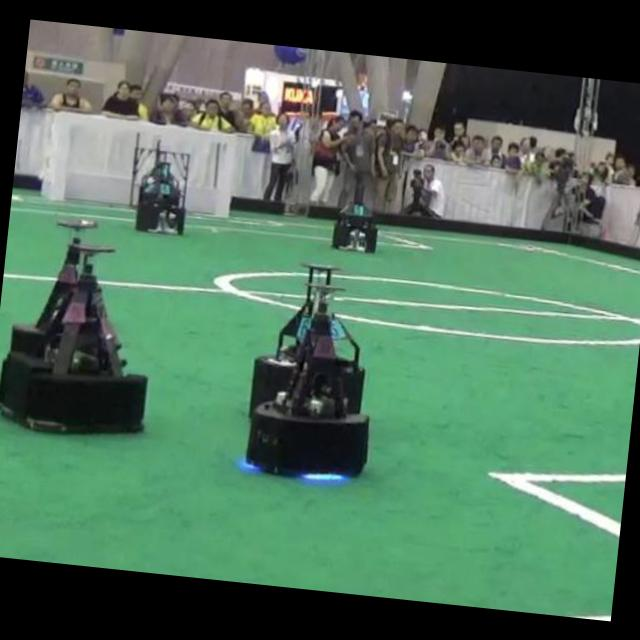goal: (45, 112, 71, 200), (213, 136, 235, 217)
robot: (0, 220, 147, 433), (246, 272, 369, 475), (251, 264, 364, 415), (129, 132, 190, 234), (332, 174, 377, 252)
